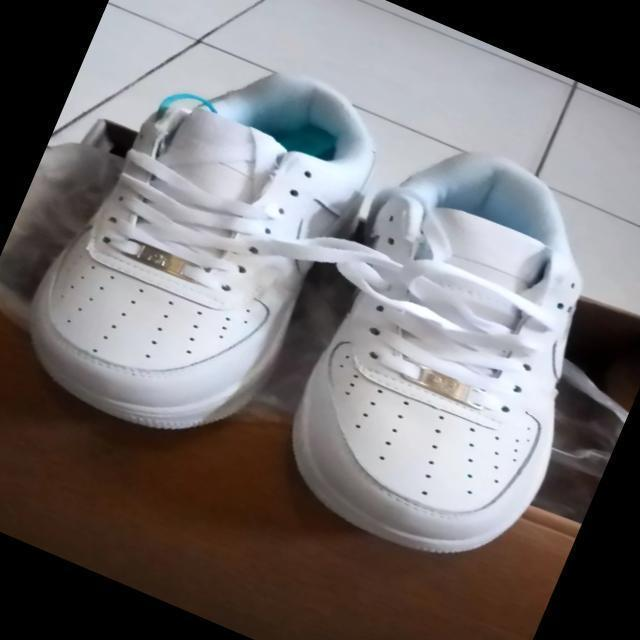nike fake air force: (0, 4, 411, 480), (246, 114, 640, 591)
